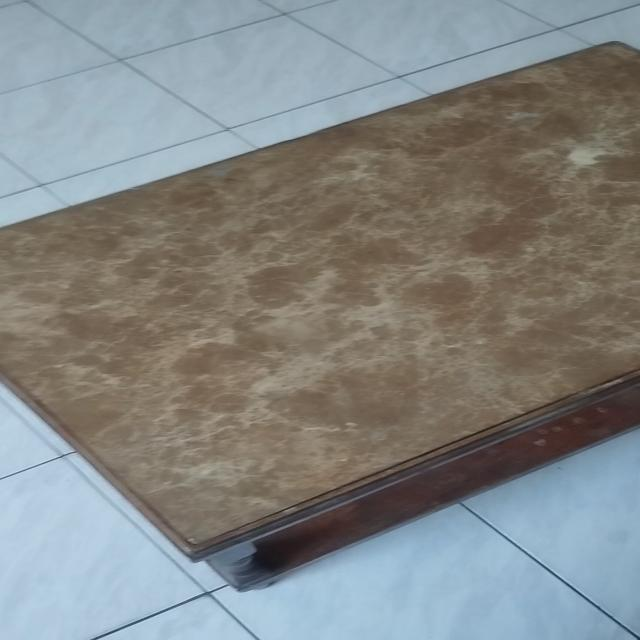table: (0, 34, 640, 590)
